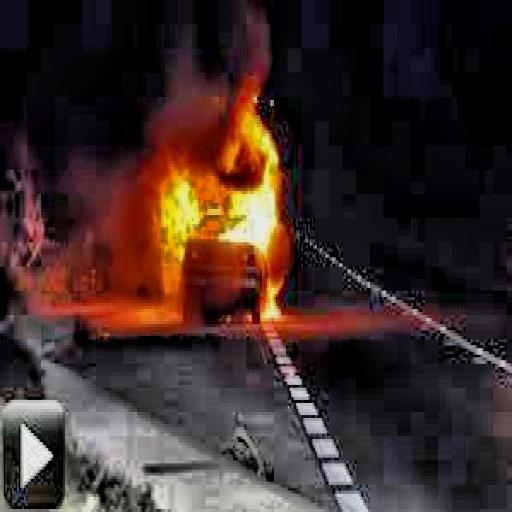fire: (149, 112, 300, 327)
